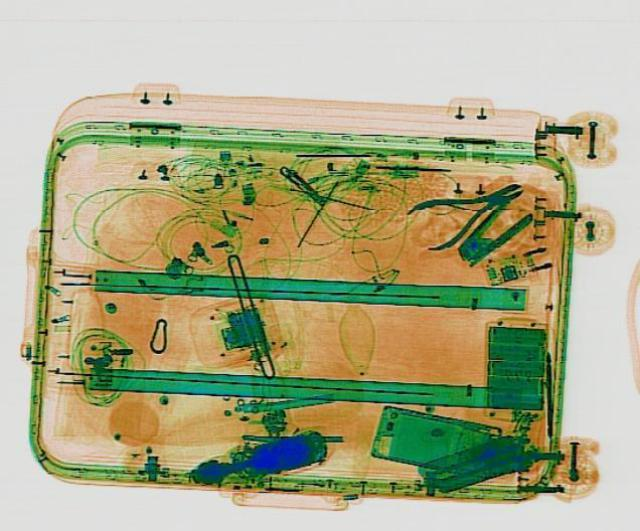Pliers: (398, 167, 538, 253)
